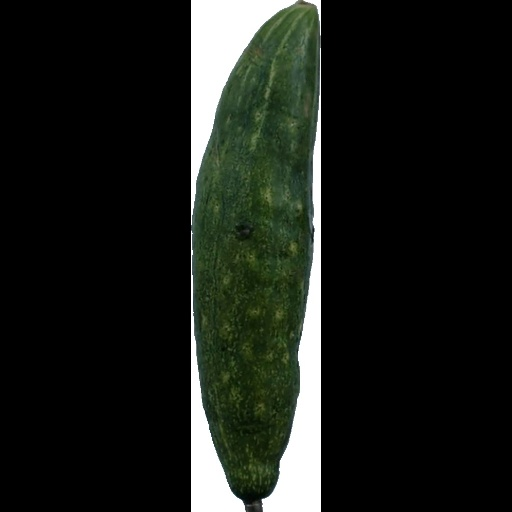concombre: (192, 1, 321, 512)
